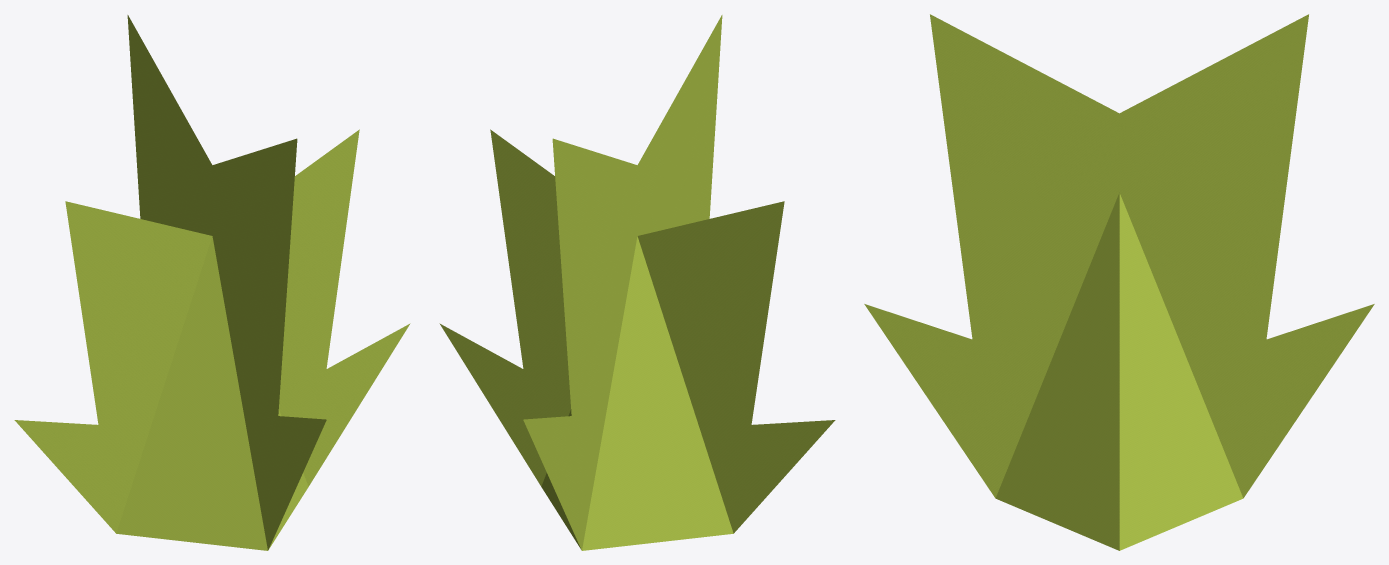
Rendered from vine.glb.
3 renders of one model, left to right at view 1: azimuth 30°, elevation 25°; view 2: azimuth 150°, elevation 25°; view 3: azimuth 270°, elevation 25°, orthographic. The views are drawn at different scales.
Parts seen in each view (by area): view 1: Tpl_vine_plant_flatTall; view 2: Tpl_vine_plant_flatTall; view 3: Tpl_vine_plant_flatTall.
Part boxes in pixels (bbox=[...]): Tpl_vine_plant_flatTall: bbox=[14, 15, 410, 550]; Tpl_vine_plant_flatTall: bbox=[439, 15, 835, 550]; Tpl_vine_plant_flatTall: bbox=[864, 14, 1374, 550].
Bounding box in the file's own units: 1.1 × 1.15 × 1.1.
Materials: 1 (1 with a texture image).
